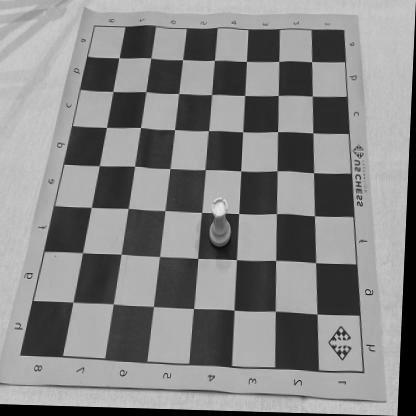white-rook: (210, 198, 235, 250)
